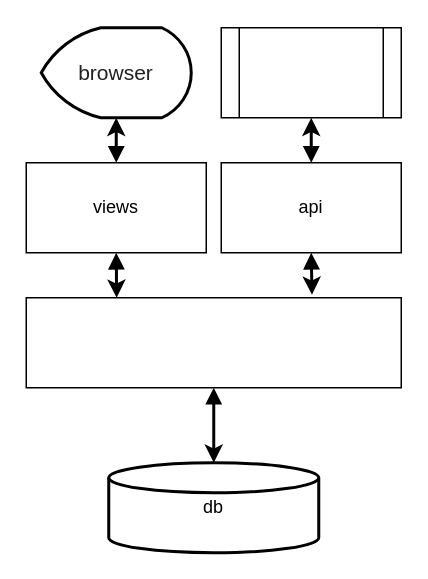
Image size: 428x579. Some labels were removed from this diagram. The centre of each missing label's shape, as x and y in pixels:
external process: (x=310, y=72)
Logic: (x=213, y=342)
